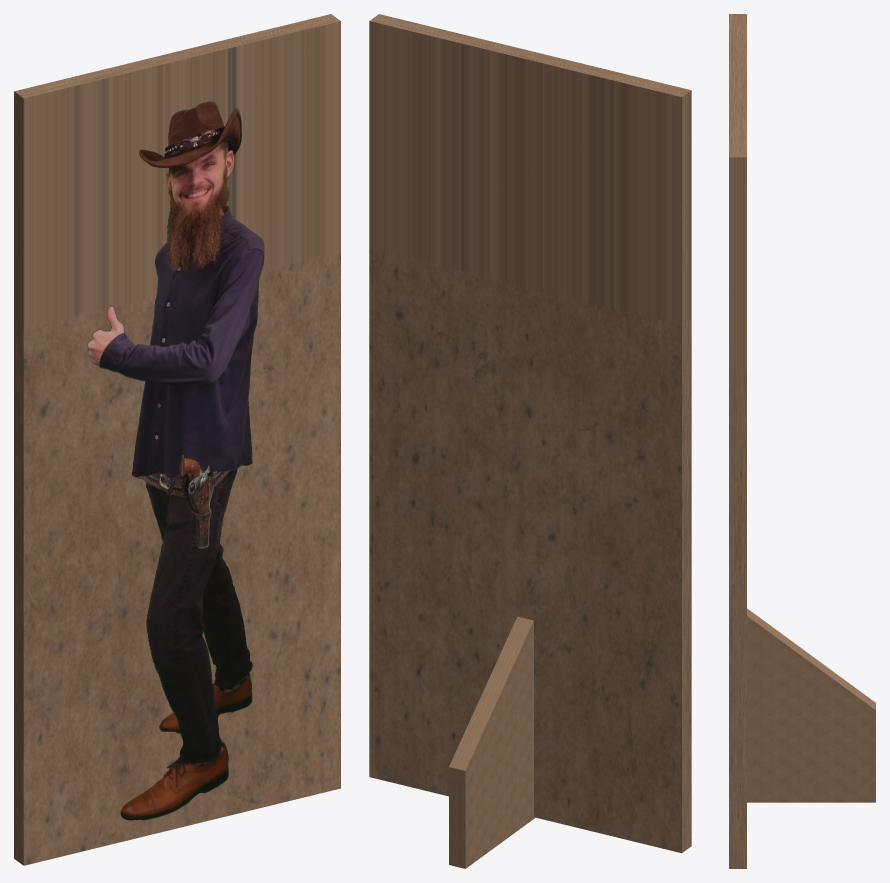
The picture shows the model from 3 angles, left to right: view 1: azimuth 30°, elevation 25°; view 2: azimuth 150°, elevation 25°; view 3: azimuth 270°, elevation 25°; orthographic projection. The views are drawn at different scales.
Parts seen in each view (by area): view 1: Cube, 4-good_work; view 2: Cube, Cube.001; view 3: Cube.001, Cube.
Part boxes in pixels (x1,y1,x2,y2): Cube: (14, 14, 340, 865); 4-good_work: (87, 101, 264, 820); Cube: (369, 14, 691, 853); Cube.001: (449, 616, 534, 868); Cube.001: (747, 608, 875, 802); Cube: (729, 14, 746, 868).
Bounding box in the file's own units: 568 × 1329 × 261.
